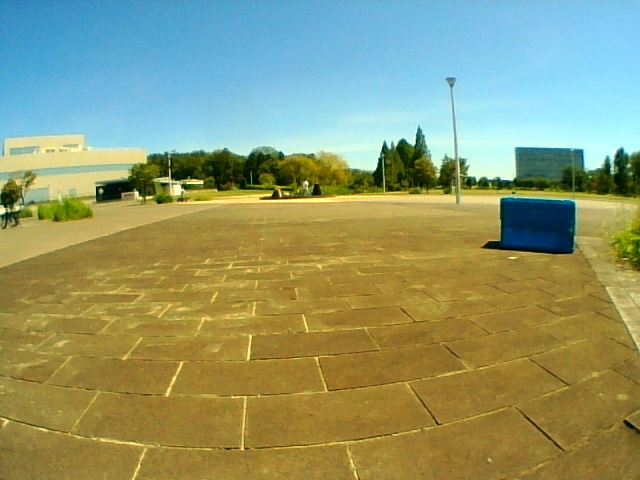blue_box: (503, 199, 573, 251)
